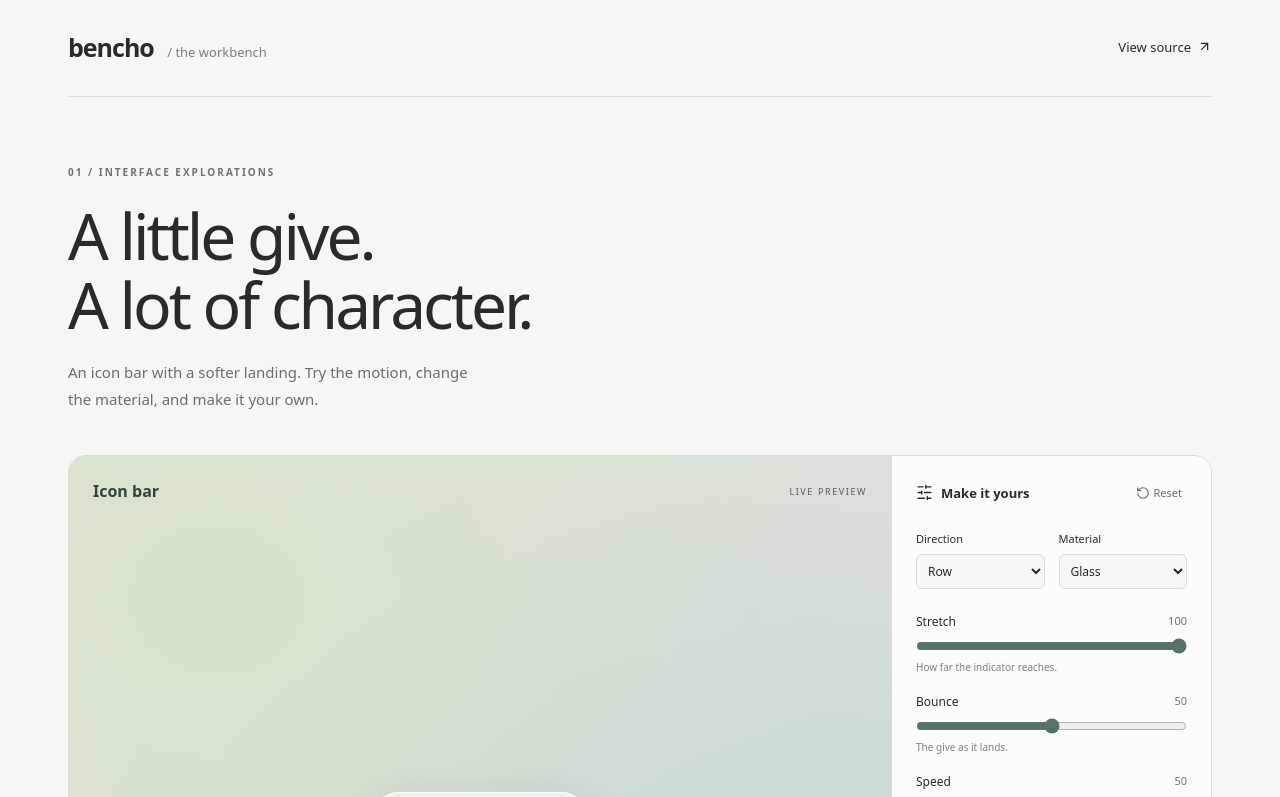
Test case: updates the preview and integration snippet, then resets the whole bench
Select "Column" in the dropdown labelled "Direction" at x=980, y=572, box left=916, top=554, right=1044, bottom=589
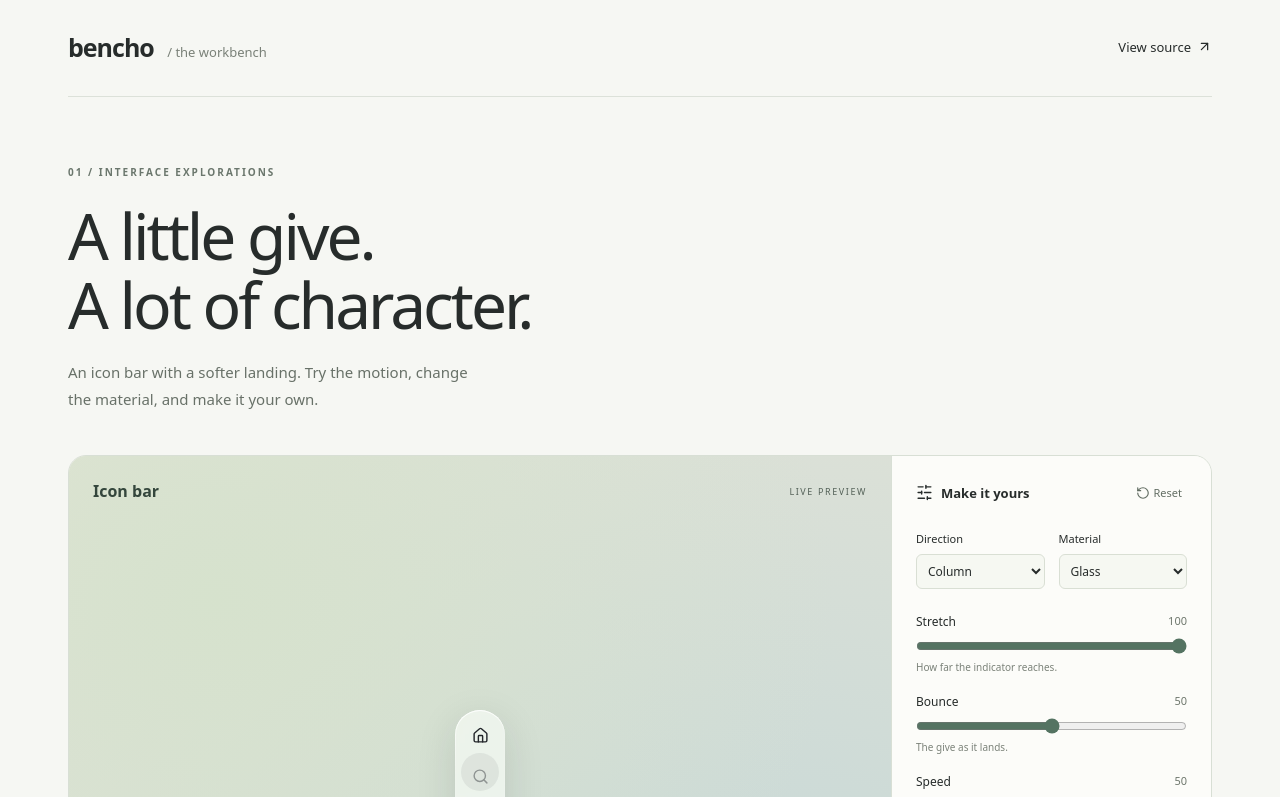
Select "Flat" in the dropdown labelled "Material" at x=1123, y=572, box left=1058, top=554, right=1187, bottom=589
(page scrolled)
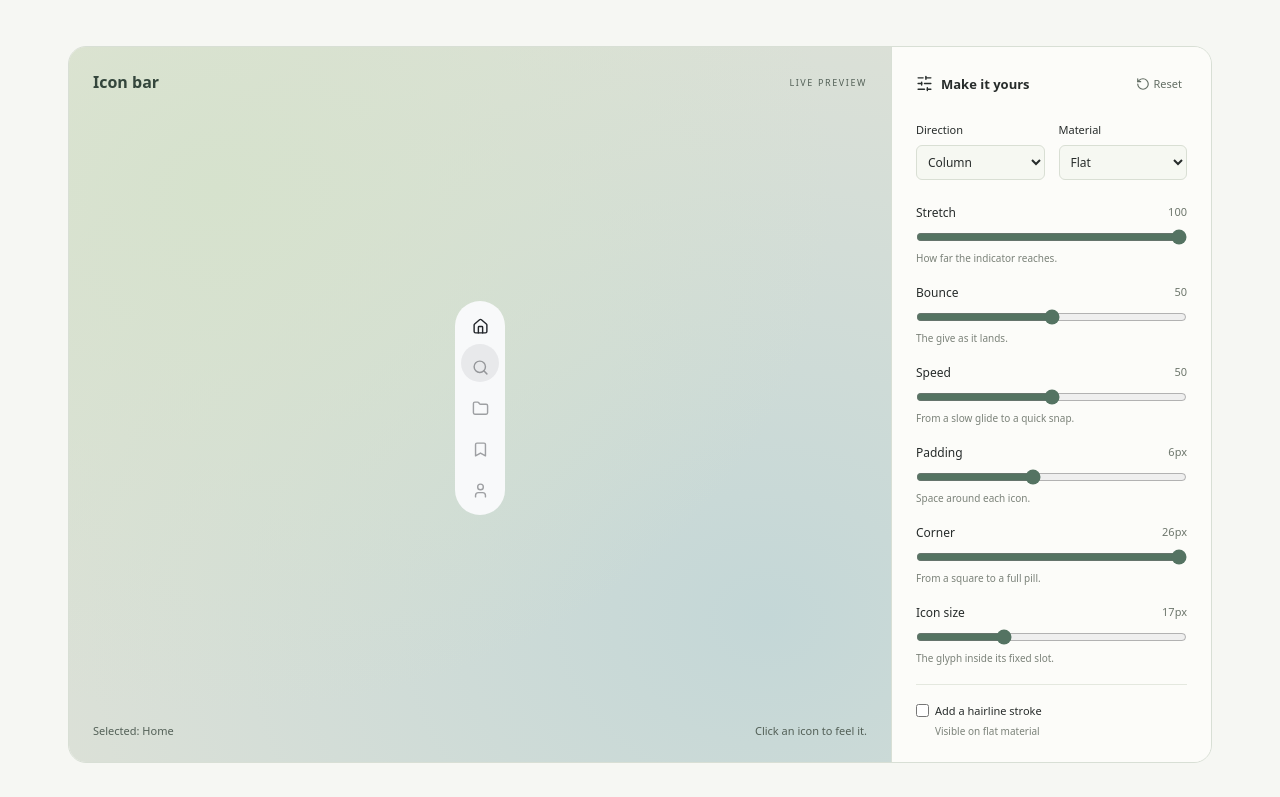
Set the slider labelled "Speed" to "80" at x=1128, y=397, box left=916, top=389, right=1187, bottom=405
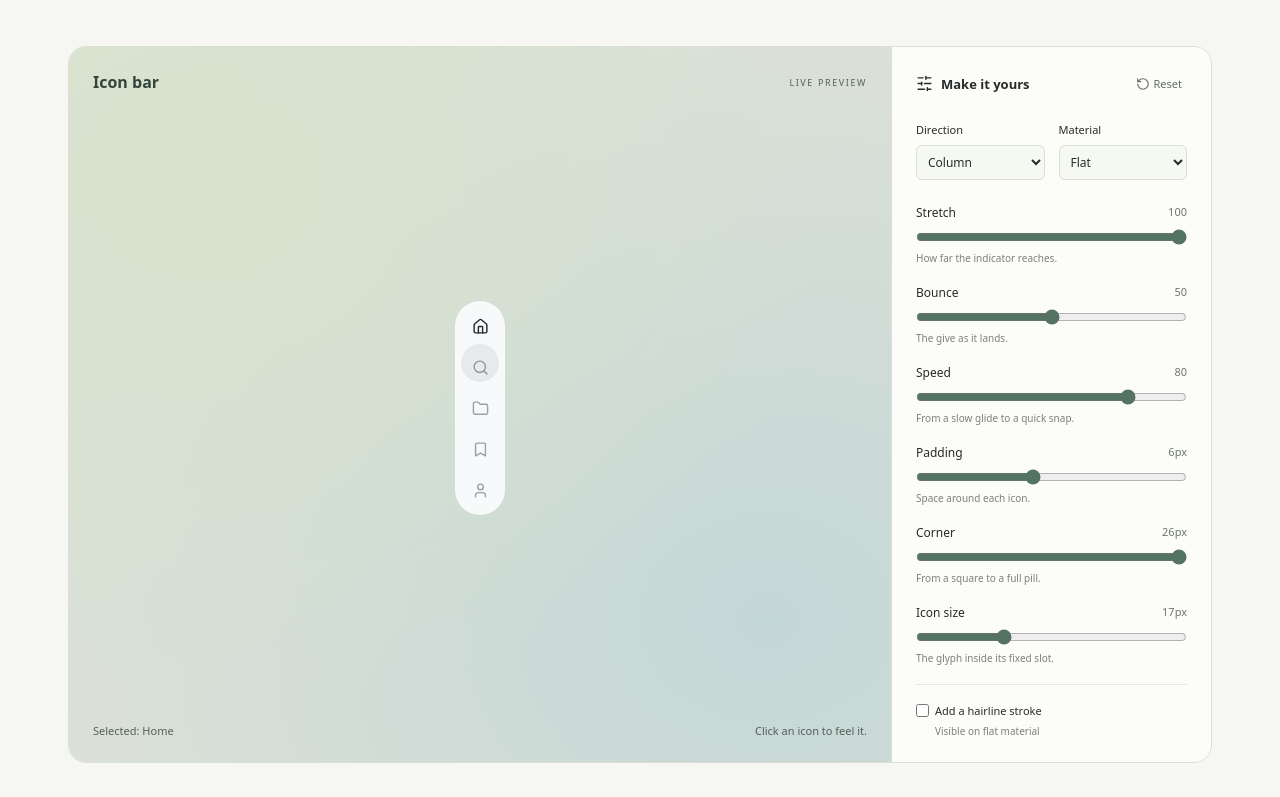
Click the button named "Saved" at x=480, y=449, box left=461, top=430, right=499, bottom=468
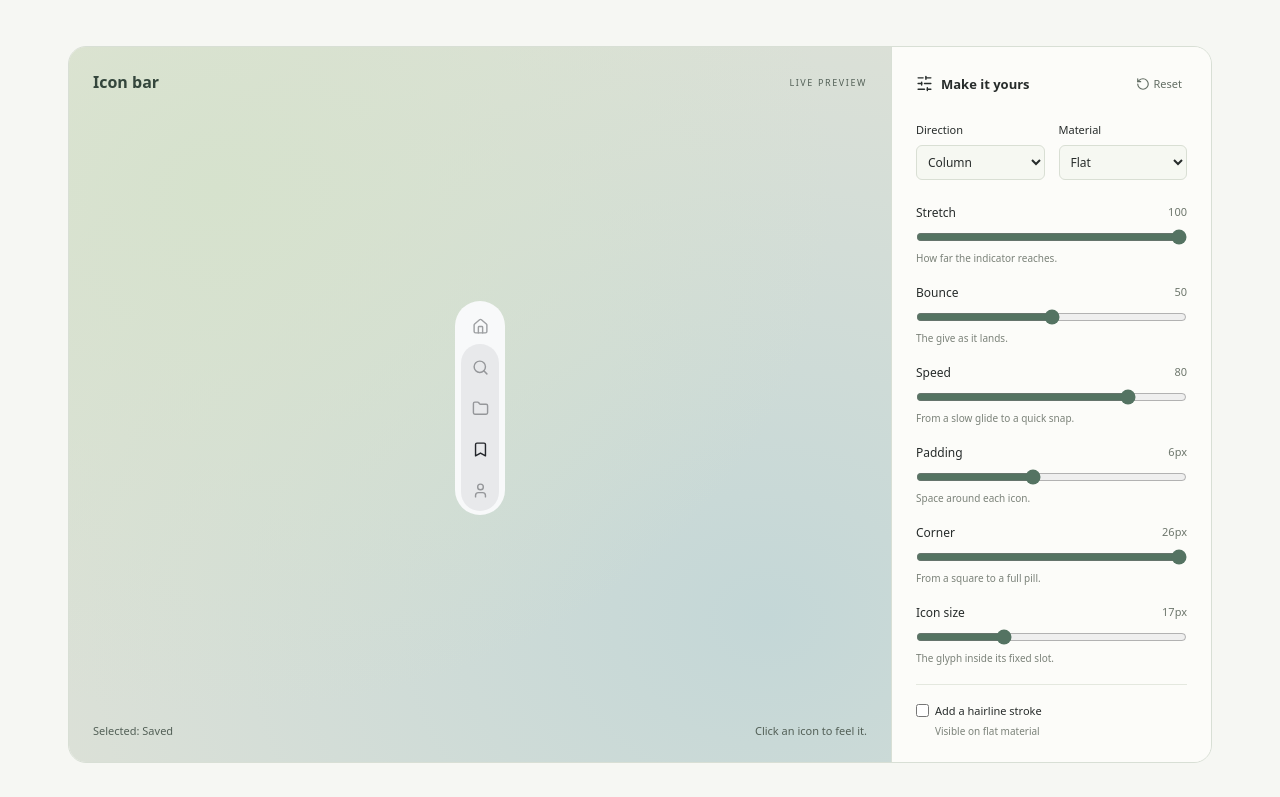
Check: the text "Selected: Saved" is shown, box left=93, top=723, right=173, bottom=738
Click the button "Reset" at x=1159, y=84, box left=1130, top=71, right=1187, bottom=96
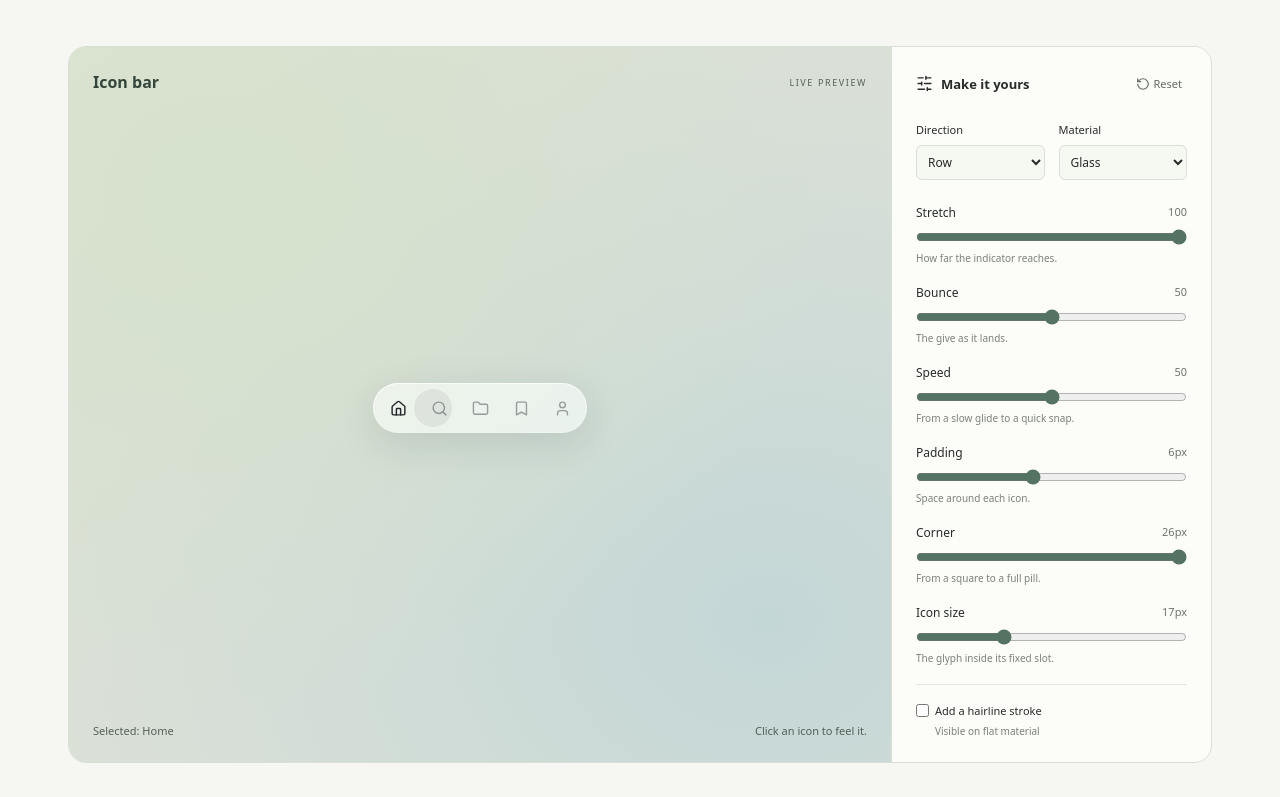
Check: the text "Selected: Home" is shown, box left=93, top=723, right=174, bottom=738
Check: the slider labelled "Speed" holds "50", box left=916, top=389, right=1187, bottom=405
